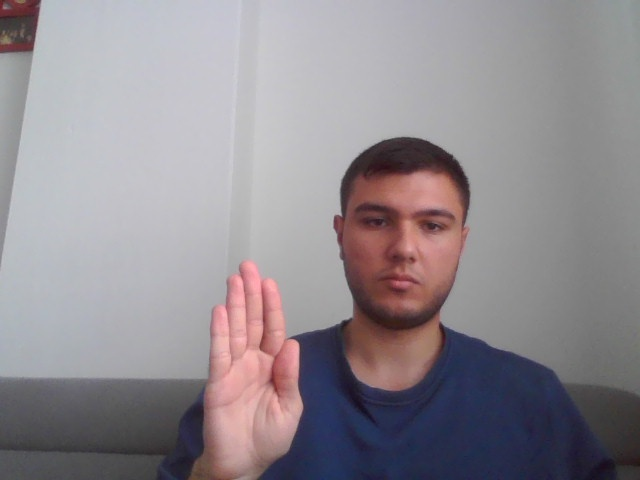Hello: (198, 258, 302, 476)
